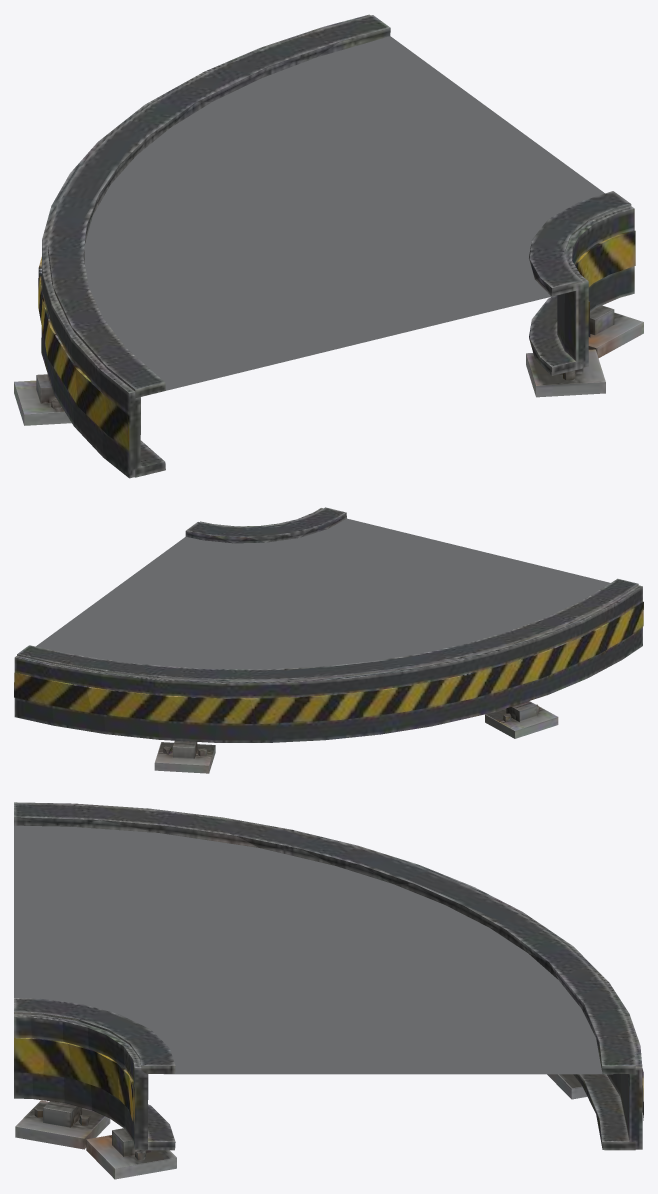
The model's file is esteira_curva_dir.glb.
3 views of the same model, one above another, from view 1: azimuth 30°, elevation 25°; view 2: azimuth 150°, elevation 25°; view 3: azimuth 270°, elevation 25° (orthographic). The views are drawn at different scales.
Parts seen in each view (by area): view 1: esteira_curva_dir_corpo; view 2: esteira_curva_dir_corpo; view 3: esteira_curva_dir_corpo.
Boxes of the visible parts, x1=… form: esteira_curva_dir_corpo: x1=14, y1=14, x2=643, y2=478; esteira_curva_dir_corpo: x1=14, y1=507, x2=643, y2=773; esteira_curva_dir_corpo: x1=14, y1=802, x2=643, y2=1179.
Size of the model in its own units: 0.841 by 0.168 by 0.841.
2 materials, 1 textured.
